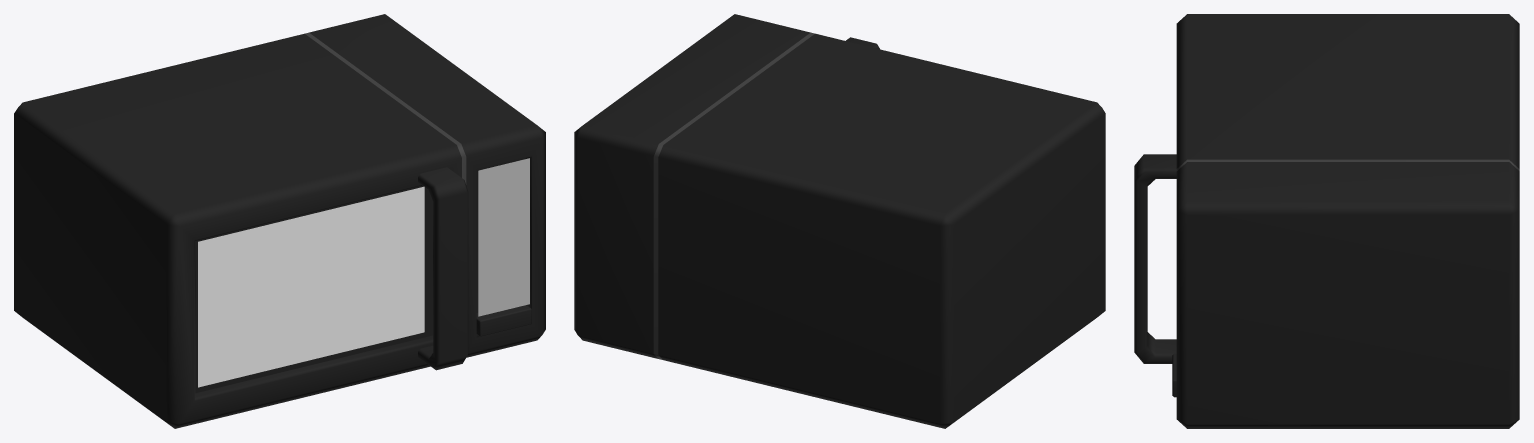
The model's file is electronics_020.fbx.
3 renders of one model, left to right at view 1: azimuth 30°, elevation 25°; view 2: azimuth 150°, elevation 25°; view 3: azimuth 270°, elevation 25°, orthographic. The views are drawn at different scales.
Parts seen in each view (by area): view 1: electronics_020; view 2: electronics_020; view 3: electronics_020.
Part boxes in pixels (x1=…): electronics_020: x1=14, y1=14, x2=545, y2=428; electronics_020: x1=574, y1=14, x2=1105, y2=428; electronics_020: x1=1134, y1=14, x2=1519, y2=428.
Bounding box in the file's own units: 65.45 × 54.35 × 35.44.
